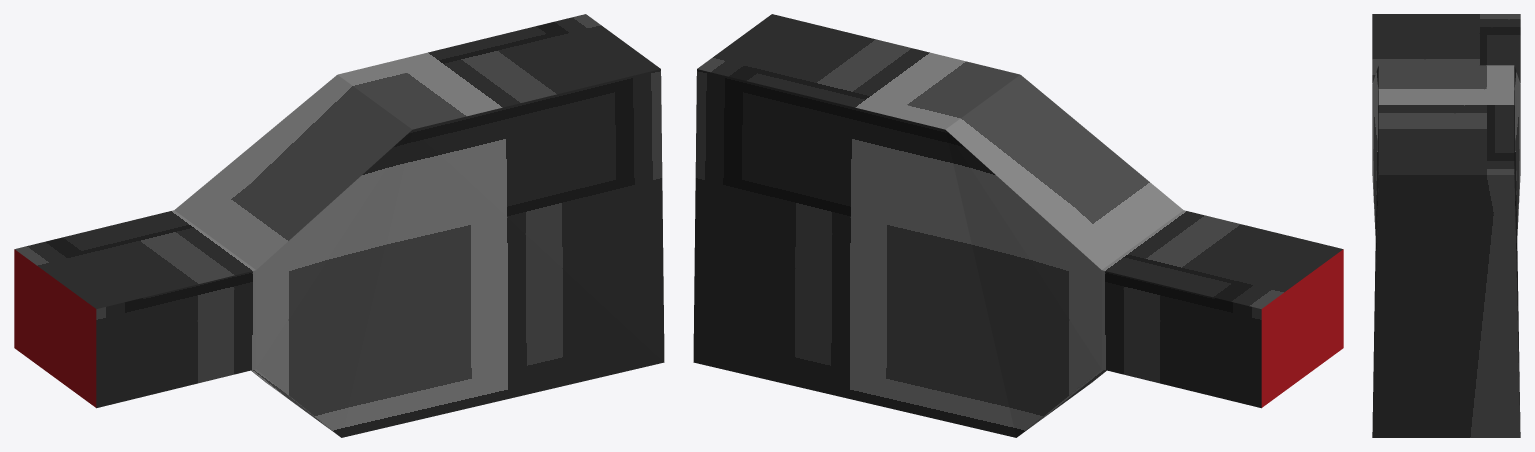
The picture shows the model from 3 angles, left to right: view 1: azimuth 30°, elevation 25°; view 2: azimuth 150°, elevation 25°; view 3: azimuth 270°, elevation 25°; orthographic projection. The views are drawn at different scales.
Parts seen in each view (by area): view 1: ss3d_29_camera; view 2: ss3d_29_camera; view 3: ss3d_29_camera.
Boxes of the visible parts, left/top/right/bottom form: ss3d_29_camera: left=14, top=14, right=664, bottom=437; ss3d_29_camera: left=693, top=14, right=1343, bottom=437; ss3d_29_camera: left=1372, top=14, right=1520, bottom=437.
Bounding box in the file's own units: 0.3375 × 0.1652 × 0.0844.
Materials: 1 (1 with a texture image).
